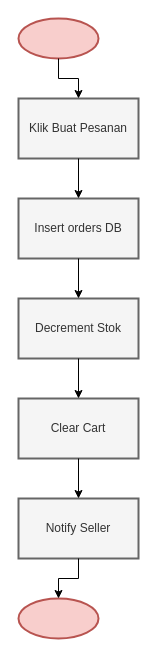
The diagram is 156 pixels wide and 656 high, and some of its shapes have lost their labels. Each missing label, with the centre of its shape:
"Mulai" belongs at (58,38).
"Selesai" belongs at (58,618).
